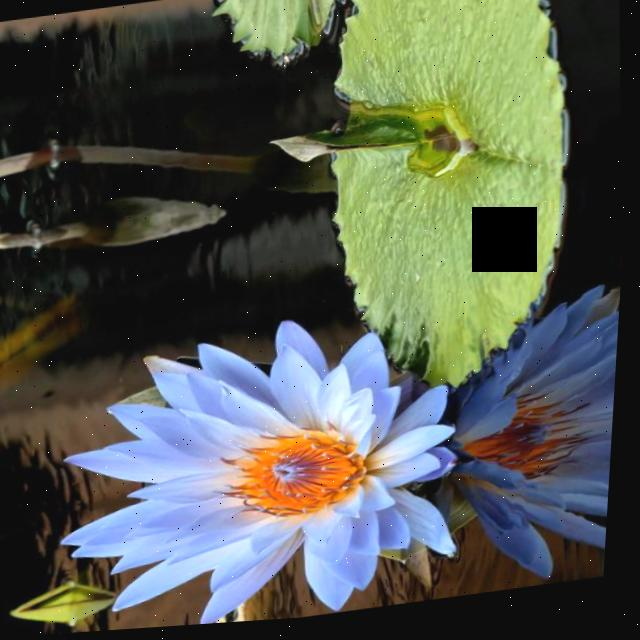water-lily: (44, 308, 504, 636)
